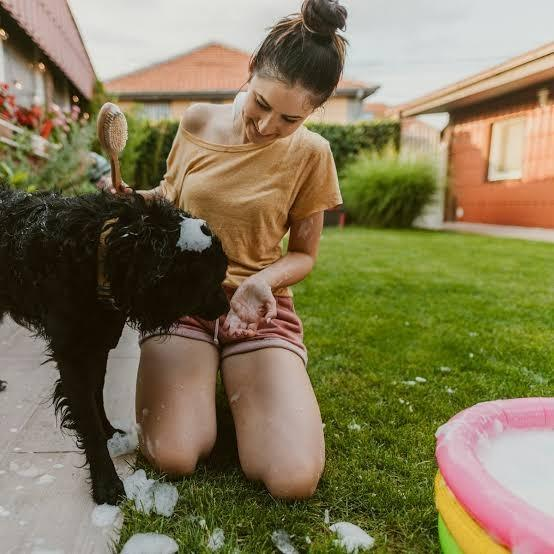adult_dog: (0, 189, 230, 505)
non-dog: (97, 0, 355, 502)
